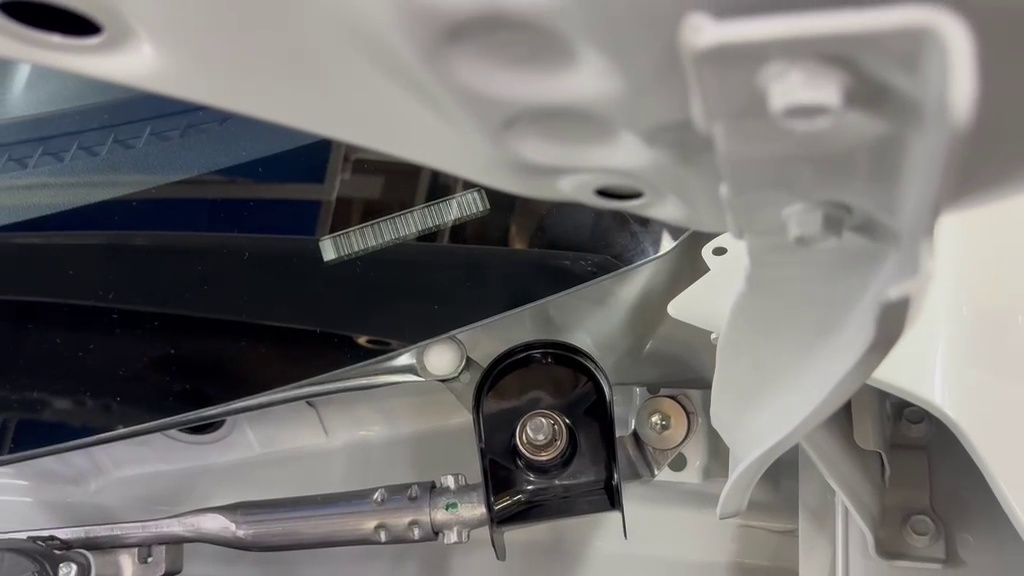barcode: (444, 334, 648, 567)
hinge: (301, 175, 508, 280)
